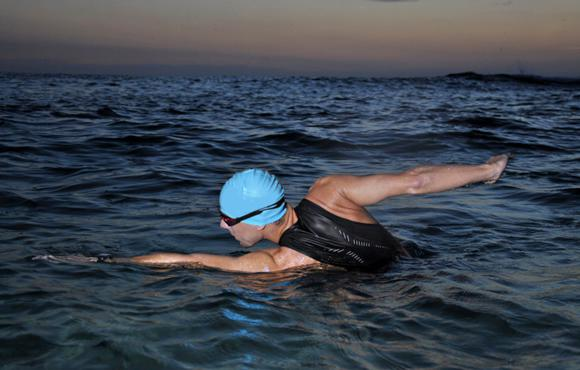human: (31, 150, 515, 272)
